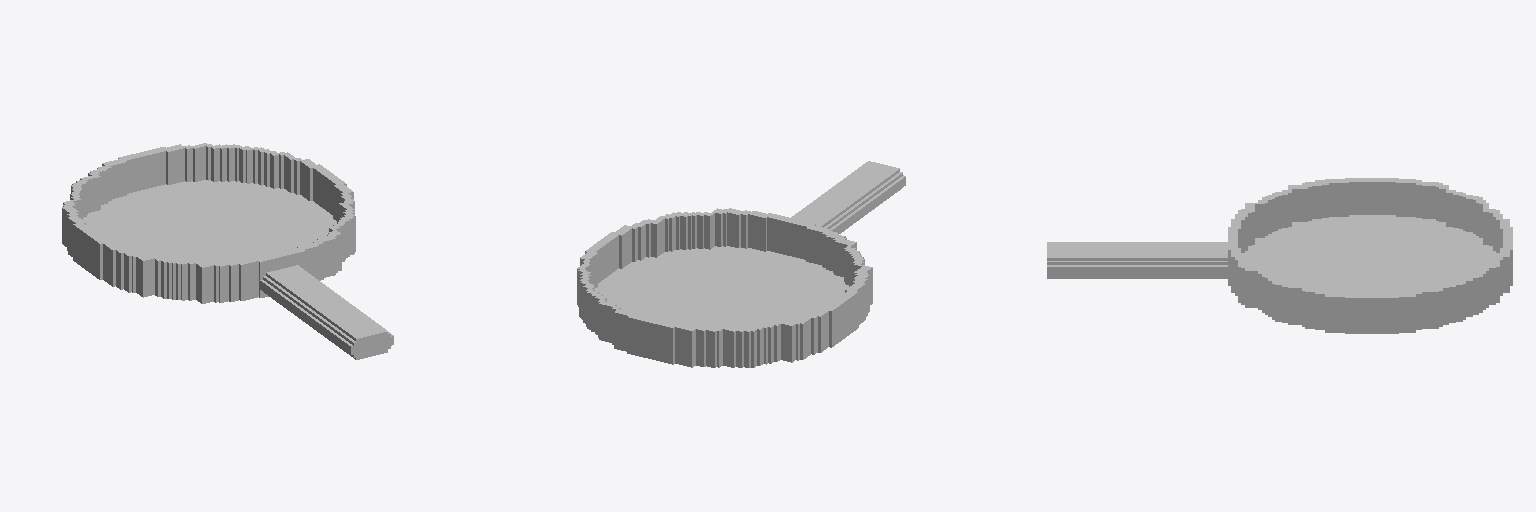
The model's file is Sarten.obj.
3 views of the same model, side by side, from view 1: azimuth 30°, elevation 25°; view 2: azimuth 150°, elevation 25°; view 3: azimuth 270°, elevation 25° (orthographic).
Parts seen in each view (by area): view 1: object 1; view 2: object 1; view 3: object 1.
Part boxes in pixels (bbox=[...]): object 1: bbox=[62, 143, 393, 359]; object 1: bbox=[577, 161, 905, 367]; object 1: bbox=[1047, 178, 1512, 333].
Bounding box in the file's own units: 8.5 × 1.2 × 13.9.